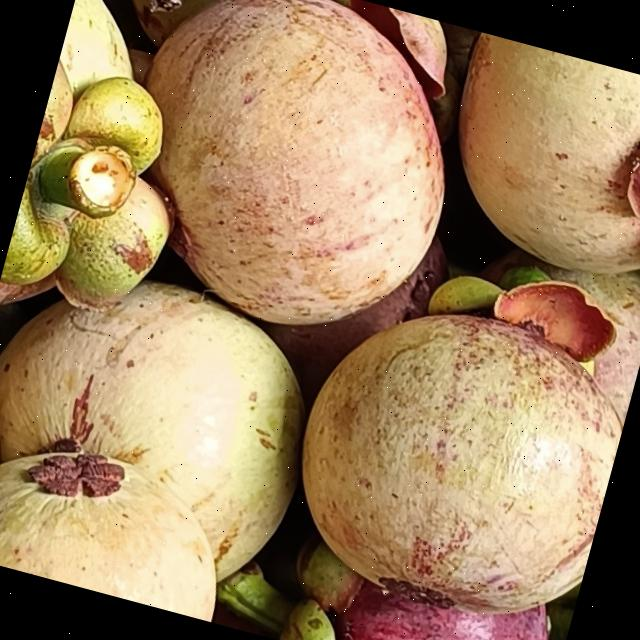mangosteen: (21, 0, 613, 425), (150, 238, 640, 640), (0, 0, 251, 407), (0, 254, 298, 538), (0, 400, 320, 640), (360, 10, 640, 249), (239, 459, 584, 640), (0, 267, 111, 575)
